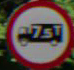Heavy Vehicles: (6, 3, 68, 58)
